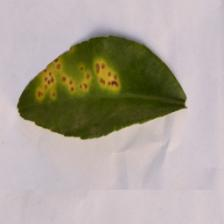canker: (27, 45, 128, 106)
